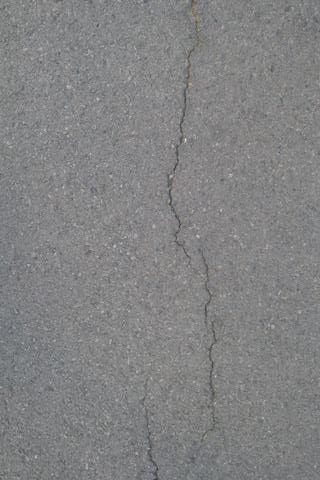A: (167, 19, 199, 270), (202, 255, 220, 445), (143, 427, 167, 480)
